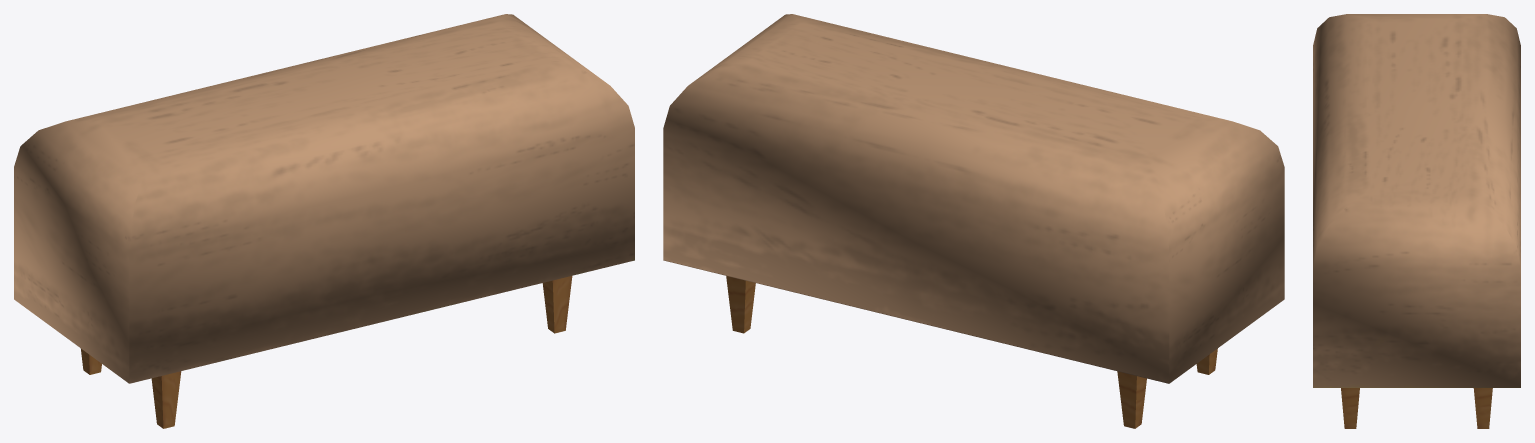
Rendered from Sofa.fbx.
The picture shows the model from 3 angles, left to right: view 1: azimuth 30°, elevation 25°; view 2: azimuth 150°, elevation 25°; view 3: azimuth 270°, elevation 25°; orthographic projection. The views are drawn at different scales.
Parts seen in each view (by area): view 1: SofaCinema; view 2: SofaCinema; view 3: SofaCinema.
Boxes of the visible parts, x1,y1,x2,y2 form: SofaCinema: [14, 14, 634, 428]; SofaCinema: [663, 14, 1284, 428]; SofaCinema: [1313, 14, 1520, 428].
Size of the model in its own units: 59.86 by 29.26 by 23.64.
